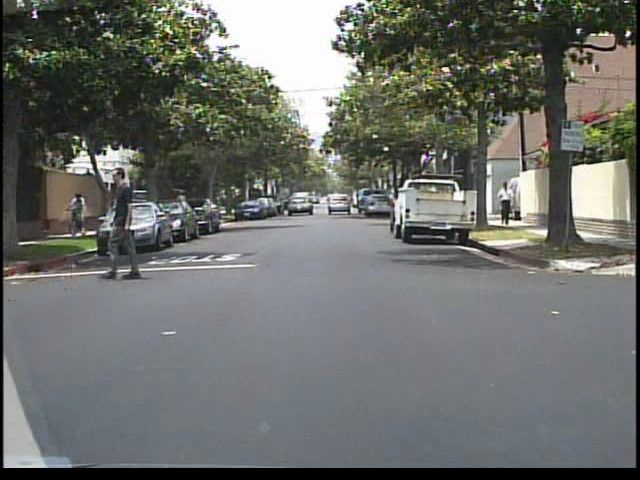person: (97, 165, 164, 285), (493, 175, 520, 232), (66, 188, 89, 236), (171, 185, 191, 225)
